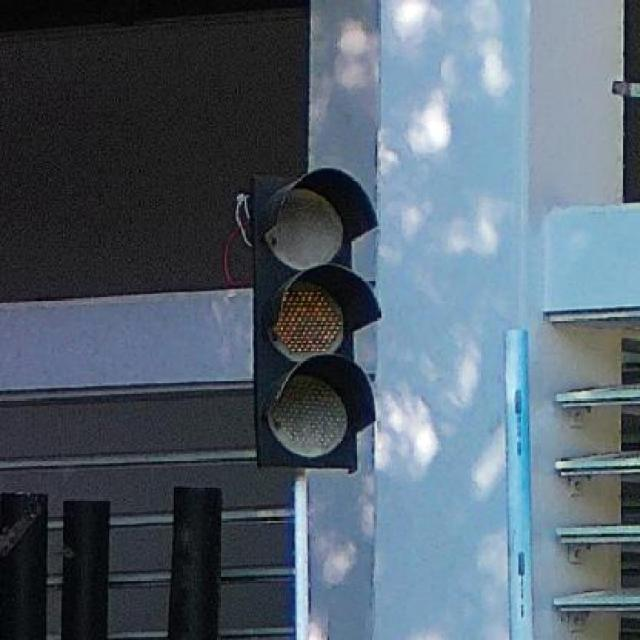Yellow: (254, 150, 374, 476)
